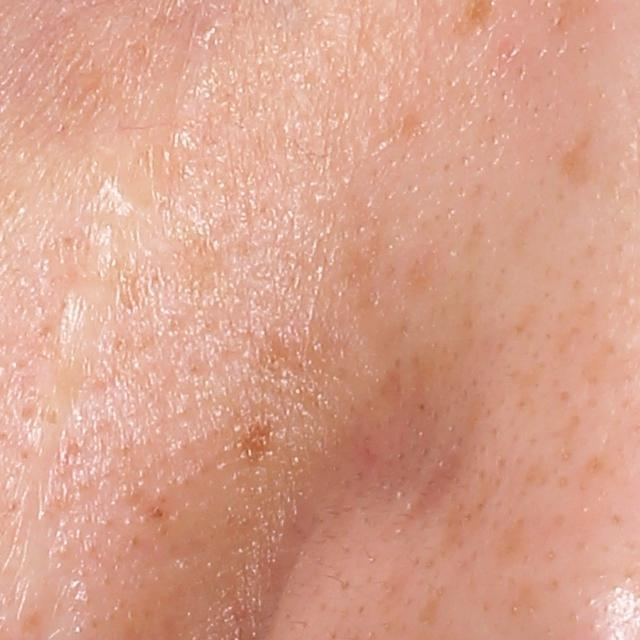melasma: (435, 468, 504, 564), (398, 247, 451, 302), (554, 131, 596, 193), (243, 420, 276, 471), (411, 586, 444, 636), (495, 517, 526, 559)
